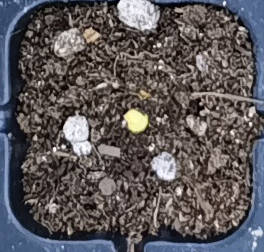chilli seed: (123, 108, 148, 132)
